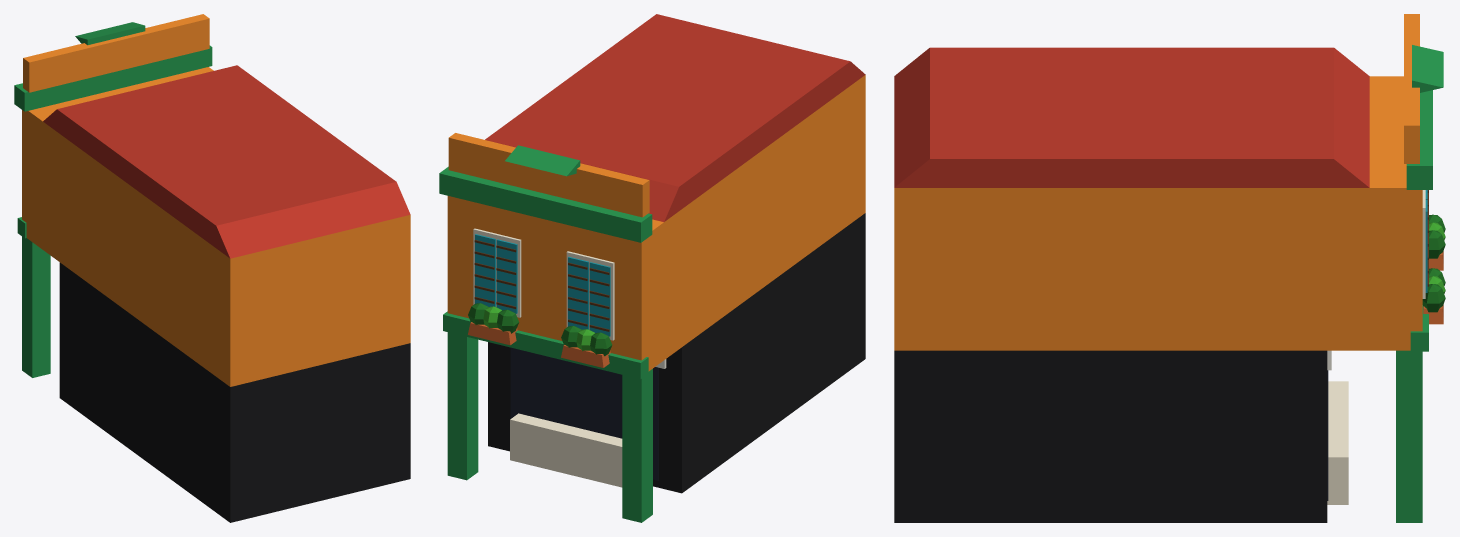
Rendered from env_chowkit_shop_e.fbx.
The picture shows the model from 3 angles, left to right: view 1: azimuth 30°, elevation 25°; view 2: azimuth 150°, elevation 25°; view 3: azimuth 270°, elevation 25°; orthographic projection. The views are drawn at different scales.
Visible parts, largest first — view 1: env_chowkit_shop_e_geo_LOD0, COL_env_chowkit_shop_e; view 2: env_chowkit_shop_e_geo_LOD0, COL_env_chowkit_shop_e; view 3: env_chowkit_shop_e_geo_LOD0, COL_env_chowkit_shop_e.
Boxes of the visible parts, <box> form: env_chowkit_shop_e_geo_LOD0: <box>14,14,410,386</box>; COL_env_chowkit_shop_e: <box>59,262,410,522</box>; env_chowkit_shop_e_geo_LOD0: <box>439,14,865,522</box>; COL_env_chowkit_shop_e: <box>488,213,865,493</box>; env_chowkit_shop_e_geo_LOD0: <box>894,14,1445,522</box>; COL_env_chowkit_shop_e: <box>894,350,1327,522</box>.
Size of what is drawn, in the model's own units: 5.2 by 8.45 by 10.44.
